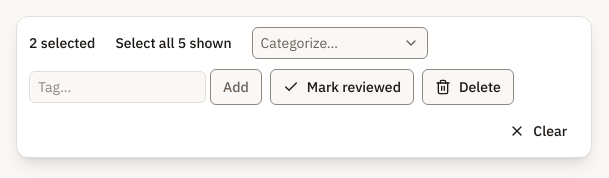
Test: bulk tag is honest (5n4.10) › a fresh read that is refused stops with an error and writes nothing
The image size is (609, 178).
Type "Vacation" into the field named "add or create tag" at (118,87), box [29, 71, 206, 103]
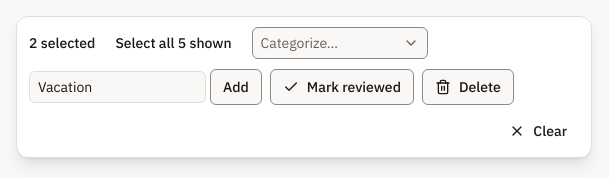
Press Enter in the field named "add or create tag", box [29, 71, 206, 103]
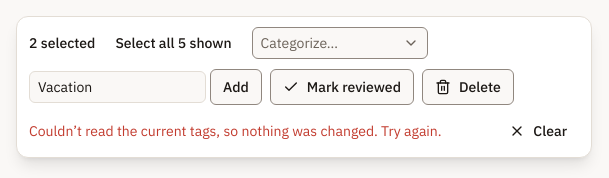
Expected: the button "Mark reviewed" is enabled, [270, 69, 414, 105]
Now the message reads "Couldn’t read the current tags, so nothing was changed. Try again.", box [29, 122, 442, 140]
